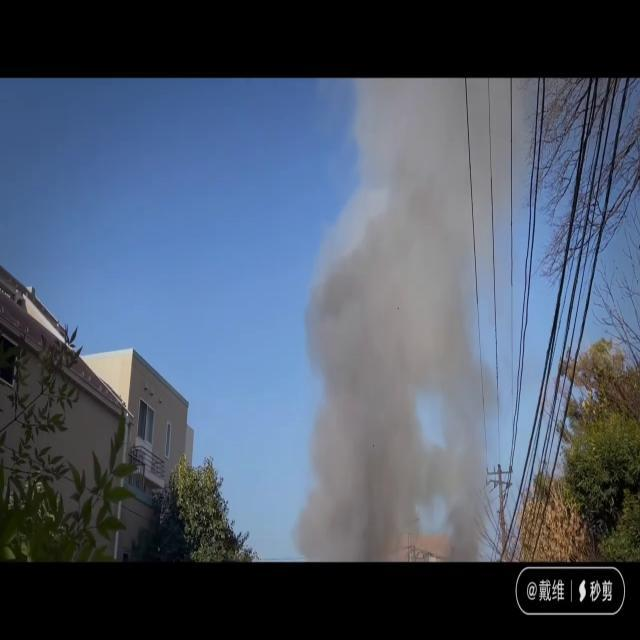Smoke: (272, 79, 514, 562)
